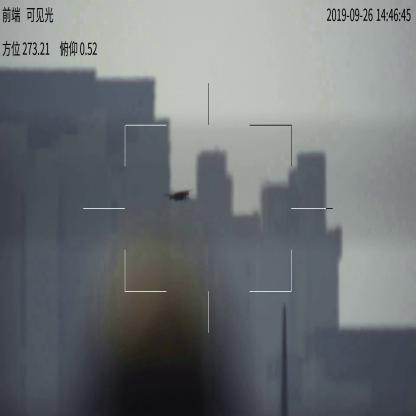uav: (165, 189, 193, 207)
